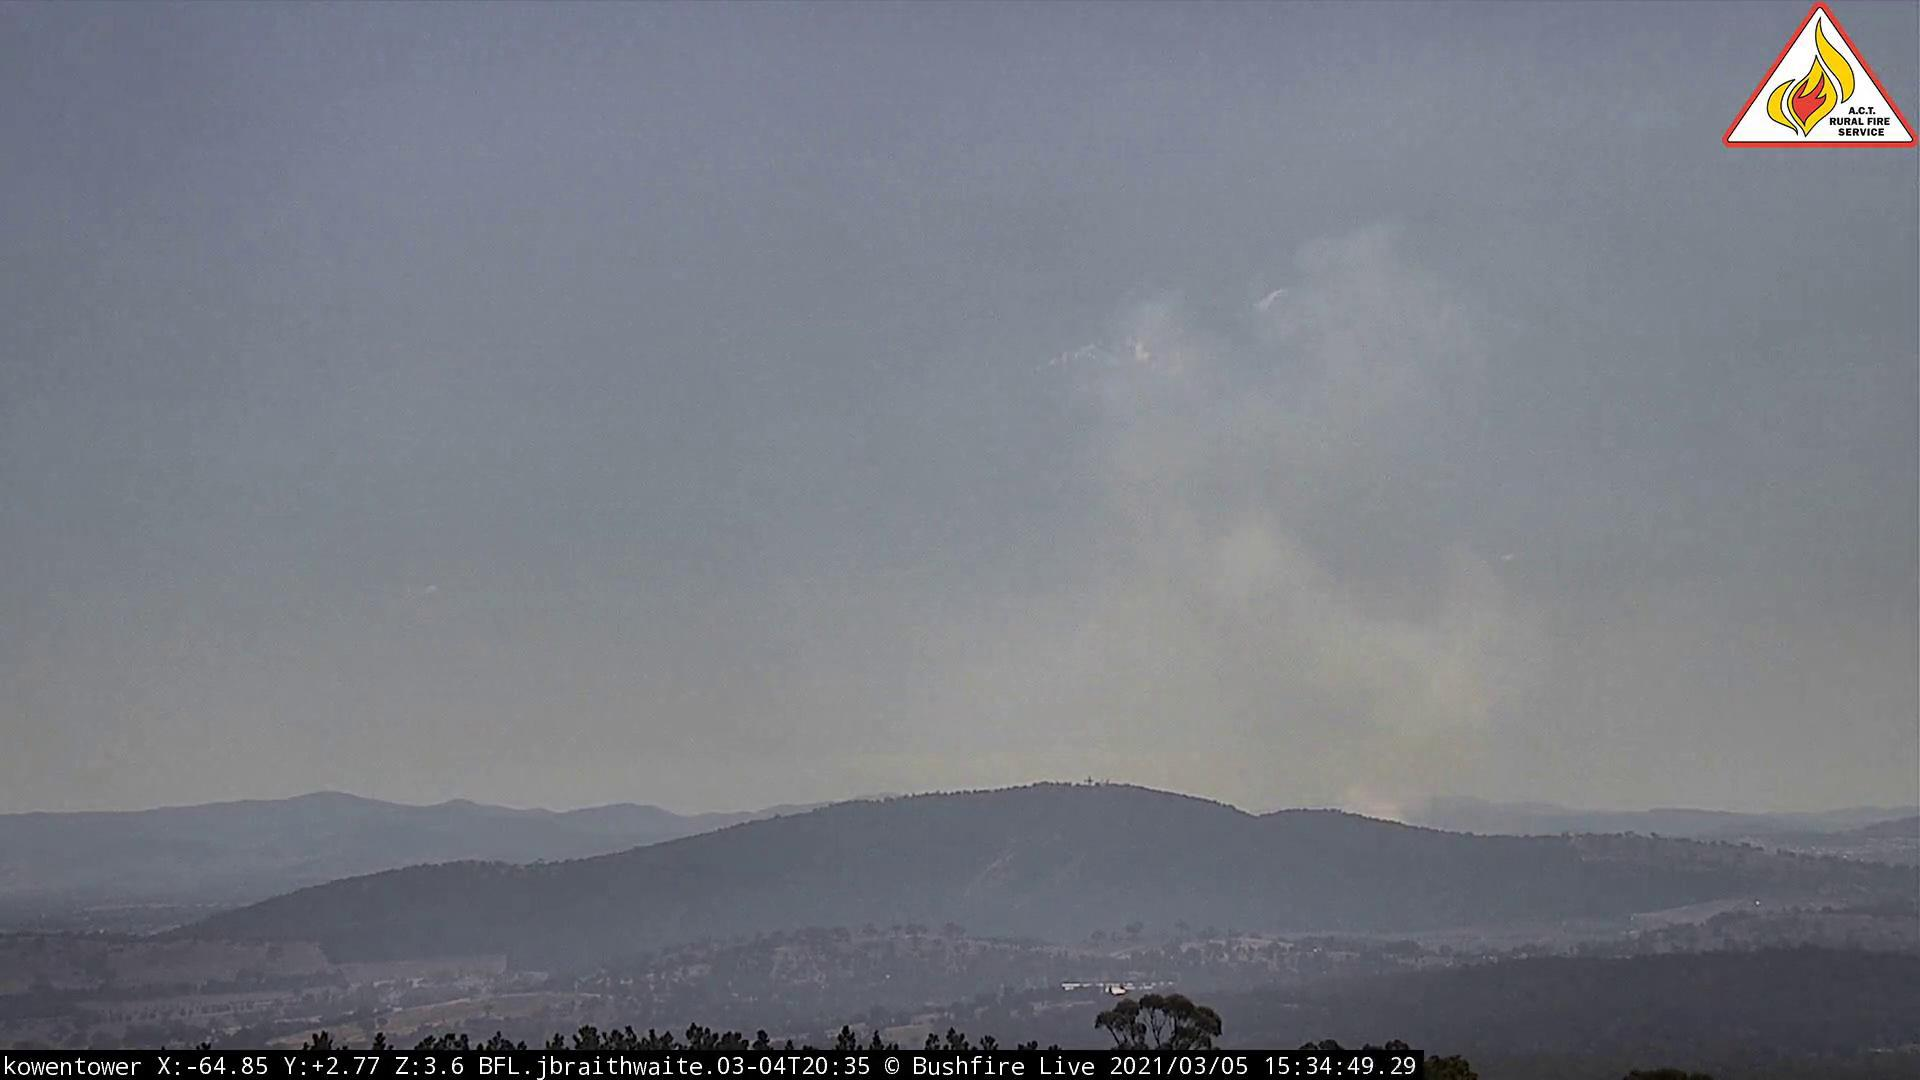Smoke: (843, 186, 1563, 857)
